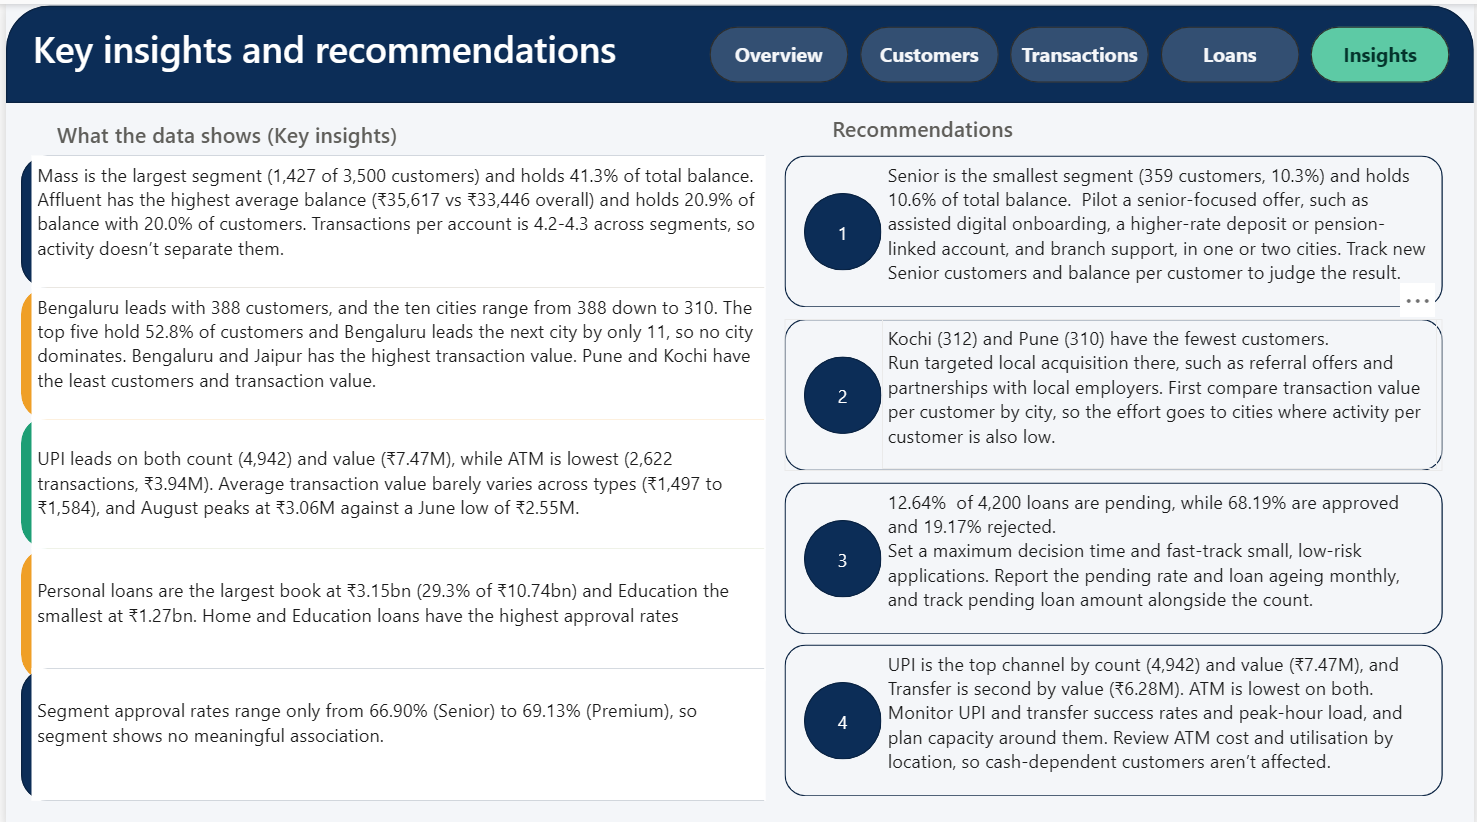

The page's visual inventory and layout, read from the dashboard file:
{"tool":"powerbi","page":{"name":"Insights","canvas":[1280,720],"ordinal":4},"visuals":[{"type":"shape","box":[0,1.5,1279.5,85],"z":0},{"type":"shape","box":[12.9,132.3,648,115.5],"z":0,"group":"g2"},{"type":"shape","box":[678.8,132.3,573.8,132.3],"z":0,"group":"g6"},{"type":"shape","box":[12.9,247.4,648,115.5],"z":0,"group":"g3"},{"type":"shape","box":[678.8,274.7,573.8,132.3],"z":0,"group":"g7"},{"type":"shape","box":[12.9,359.8,648,115.5],"z":0,"group":"g1"},{"type":"shape","box":[678.8,417.1,573.8,132.3],"z":0,"group":"g8"},{"type":"shape","box":[12.9,474.6,648,115.5],"z":0,"group":"g4"},{"type":"shape","box":[678.8,558,573.8,132.3],"z":0,"group":"g9"},{"type":"shape","box":[12.9,579.6,648,115.5],"z":0,"group":"g5"},{"type":"textbox","box":[18.2,12.1,569.3,74.2],"z":1000},{"type":"textbox","box":[21.5,132.3,640,115],"z":1000,"group":"g2"},{"type":"textbox","box":[763.9,132.3,483.2,131],"z":1000,"group":"g6"},{"type":"textbox","box":[21.5,247.4,640,115],"z":1000,"group":"g3"},{"type":"textbox","box":[763.9,274.7,483.2,131],"z":1000,"group":"g7"},{"type":"textbox","box":[21.5,359.8,640,115],"z":1000,"group":"g1"},{"type":"textbox","box":[763.9,417.1,483.2,131],"z":1000,"group":"g8"},{"type":"textbox","box":[21.5,474.6,640,115],"z":1000,"group":"g4"},{"type":"textbox","box":[763.9,558,483.2,131],"z":1000,"group":"g9"},{"type":"textbox","box":[21.5,579.6,640,115],"z":1000,"group":"g5"},{"type":"pageNavigator","box":[613.3,19.7,649.6,50],"z":2000},{"type":"textbox","box":[38.8,94.9,317.8,37.4],"z":3000},{"type":"textbox","box":[714.7,90.6,317.8,37.4],"z":4000},{"type":"group","id":"g1","title":"Group 1","box":[12.9,359.8,648.6,115],"z":5000},{"type":"group","id":"g2","title":"Group 1","box":[12.9,132.3,648.6,115],"z":6000},{"type":"group","id":"g3","title":"Group 1","box":[12.9,247.4,648.6,115],"z":7000},{"type":"group","id":"g4","title":"Group 1","box":[12.9,474.6,648.6,115],"z":8000},{"type":"group","id":"g5","title":"Group 1","box":[12.9,579.6,648.6,115],"z":9000},{"type":"group","id":"g6","title":"Group 3","box":[678.8,132.3,573.8,132.3],"z":10000},{"type":"shape","box":[696.1,165.4,67.6,67.6],"z":11000,"group":"g6"},{"type":"group","id":"g7","title":"Group 3","box":[678.8,274.7,573.8,132.3],"z":11000},{"type":"shape","box":[696.1,307.8,67.6,67.6],"z":11000,"group":"g7"},{"type":"shape","box":[696.1,450.2,67.6,67.6],"z":11000,"group":"g8"},{"type":"shape","box":[696.1,591.1,67.6,67.6],"z":11000,"group":"g9"},{"type":"group","id":"g8","title":"Group 3","box":[678.8,417.1,573.8,132.3],"z":12000},{"type":"group","id":"g9","title":"Group 3","box":[678.8,558,573.8,132.3],"z":13000}]}

Visuals, with their boxes in screenshot pixels (x1, y1, x2, y2), scaled from the page's 1280x720 canvas onto the 1477x822 screenshot:
shape: bbox(0, 2, 1476, 99)
shape: bbox(15, 151, 763, 283)
shape: bbox(783, 151, 1445, 302)
shape: bbox(15, 282, 763, 414)
shape: bbox(783, 314, 1445, 465)
shape: bbox(15, 411, 763, 543)
shape: bbox(783, 476, 1445, 627)
shape: bbox(15, 542, 763, 674)
shape: bbox(783, 637, 1445, 788)
shape: bbox(15, 662, 763, 794)
textbox: bbox(21, 14, 678, 99)
textbox: bbox(25, 151, 763, 282)
textbox: bbox(881, 151, 1439, 301)
textbox: bbox(25, 282, 763, 414)
textbox: bbox(881, 314, 1439, 463)
textbox: bbox(25, 411, 763, 542)
textbox: bbox(881, 476, 1439, 626)
textbox: bbox(25, 542, 763, 673)
textbox: bbox(881, 637, 1439, 787)
textbox: bbox(25, 662, 763, 793)
pageNavigator: bbox(708, 22, 1457, 80)
textbox: bbox(45, 108, 411, 151)
textbox: bbox(825, 103, 1191, 146)
"Group 1" group: bbox(15, 411, 763, 542)
"Group 1" group: bbox(15, 151, 763, 282)
"Group 1" group: bbox(15, 282, 763, 414)
"Group 1" group: bbox(15, 542, 763, 673)
"Group 1" group: bbox(15, 662, 763, 793)
"Group 3" group: bbox(783, 151, 1445, 302)
shape: bbox(803, 189, 881, 266)
"Group 3" group: bbox(783, 314, 1445, 465)
shape: bbox(803, 351, 881, 429)
shape: bbox(803, 514, 881, 591)
shape: bbox(803, 675, 881, 752)
"Group 3" group: bbox(783, 476, 1445, 627)
"Group 3" group: bbox(783, 637, 1445, 788)
